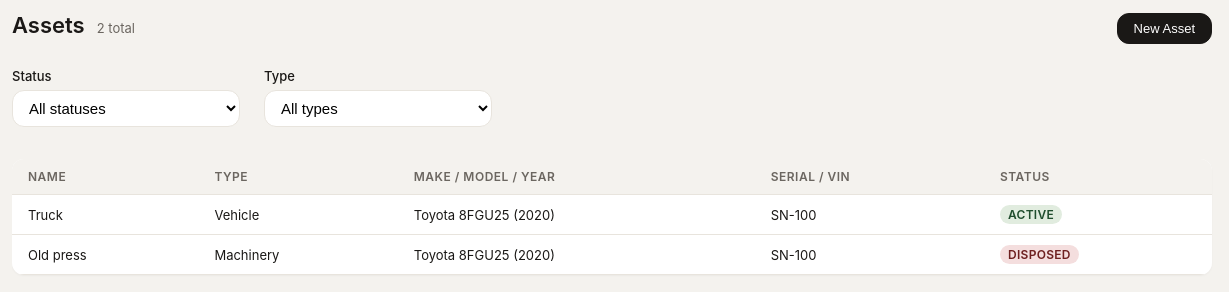
Test: AssetList › filters by status and type client-side
Select "Disposed" in the 1st dropdown at x=126, y=108, box left=12, top=90, right=240, bottom=127
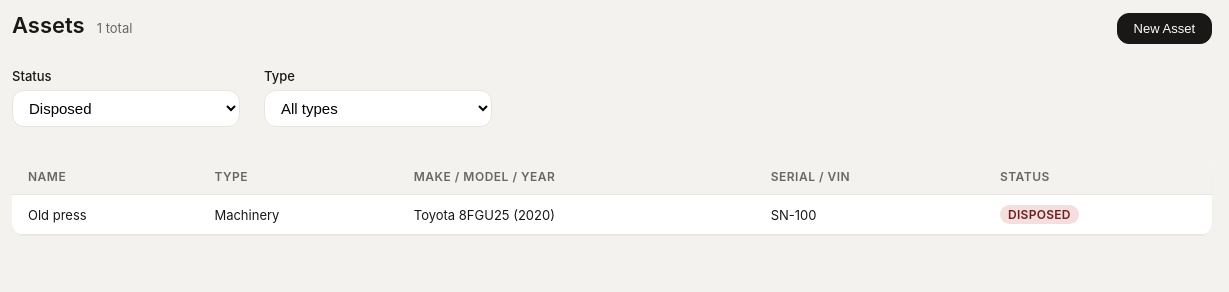
Expected: the text "Old press" is shown, left=12, top=194, right=198, bottom=234
Result: the text "Truck" is gone
